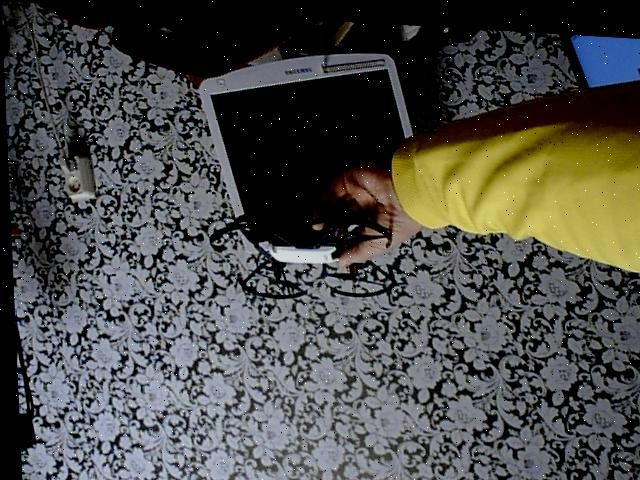drone: (192, 184, 399, 313)
